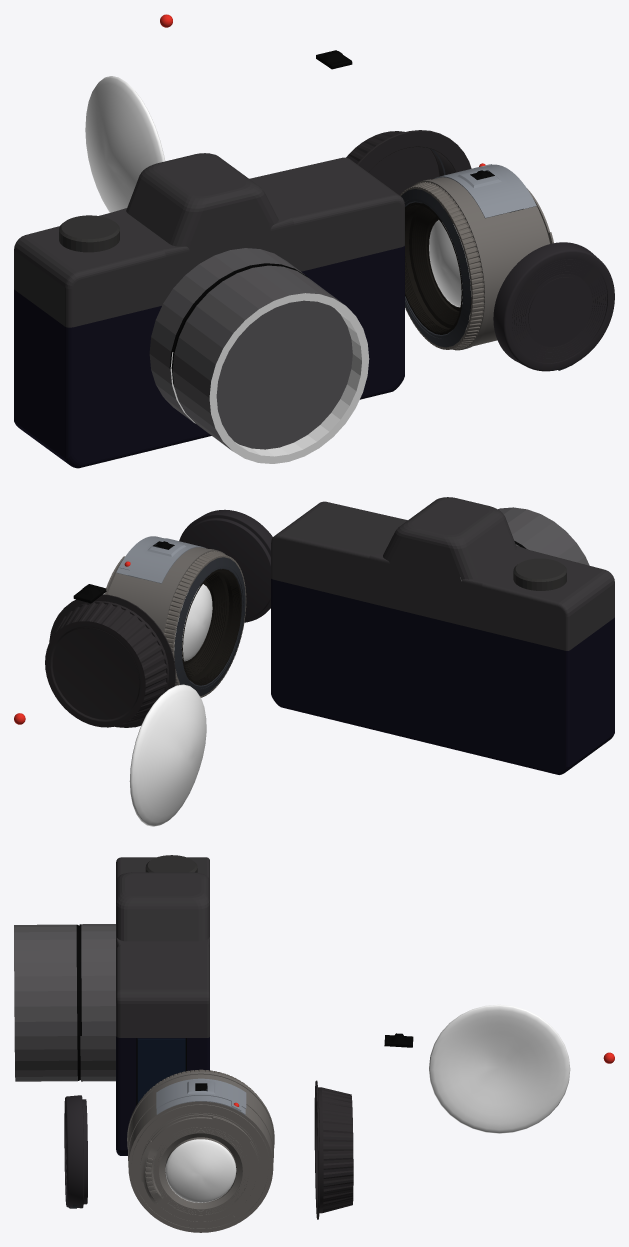
Rendered from Cam.glb.
3 renders of one model, top to bottom at view 1: azimuth 30°, elevation 25°; view 2: azimuth 150°, elevation 25°; view 3: azimuth 270°, elevation 25°, orthographic. The views are drawn at different scales.
Parts seen in each view (by area): view 1: Cubo, FrontCap_Body, Front Element.001, Rear element, RearCap, FocusBarrel, FocusSwitch_Panel, Rubber Grip, FrontLens-Info Ring, Front Element; view 2: Cubo, RearCap, Front Element.001, FrontCap_Body, FocusBarrel, Rear element, FrontLens-Info Ring, FocusSwitch_Panel, Rubber Grip, Front Element; view 3: Cubo, Front Element.001, Rear element, RearCap, Rear Element, FrontCap_Body, FocusSwitch_Panel.
Part boxes in pixels (left/top/right/bottom): Cubo: left=14, top=153, right=404, bottom=468; FrontCap_Body: left=493, top=242, right=614, bottom=371; Front Element.001: left=85, top=76, right=165, bottom=212; Rear element: left=412, top=177, right=553, bottom=350; RearCap: left=346, top=130, right=471, bottom=195; FocusBarrel: left=405, top=202, right=471, bottom=334; FocusSwitch_Panel: left=433, top=164, right=536, bottom=218; Rubber Grip: left=400, top=182, right=484, bottom=349; FrontLens-Info Ring: left=401, top=189, right=471, bottom=347; Front Element: left=429, top=220, right=471, bottom=307; Cubo: left=271, top=497, right=614, bottom=774; RearCap: left=45, top=594, right=175, bottom=727; Front Element.001: left=129, top=684, right=206, bottom=826; FrontCap_Body: left=179, top=509, right=272, bottom=622; FocusBarrel: left=174, top=569, right=241, bottom=685; Rear element: left=104, top=547, right=225, bottom=681; FrontLens-Info Ring: left=174, top=557, right=245, bottom=695; FocusSwitch_Panel: left=116, top=536, right=205, bottom=583; Rubber Grip: left=164, top=551, right=246, bottom=697; Front Element: left=174, top=584, right=212, bottom=661; Cubo: left=14, top=855, right=209, bottom=1155; Front Element.001: left=429, top=1004, right=570, bottom=1133; Rear element: left=127, top=1071, right=274, bottom=1232; RearCap: left=314, top=1080, right=353, bottom=1219; Rear Element: left=165, top=1139, right=236, bottom=1202; FrontCap_Body: left=64, top=1095, right=87, bottom=1208; FocusSwitch_Panel: left=156, top=1078, right=246, bottom=1114.
Size of the model in its own units: 5.62 by 2.54 by 6.54.
